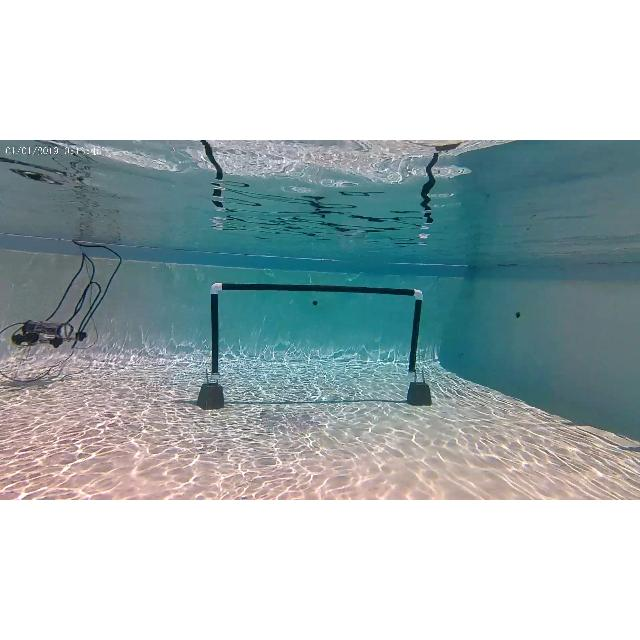prequal gate: (211, 283, 423, 381)
prequal gate leg l: (209, 280, 227, 382)
prequal gate leg r: (403, 288, 423, 382)
